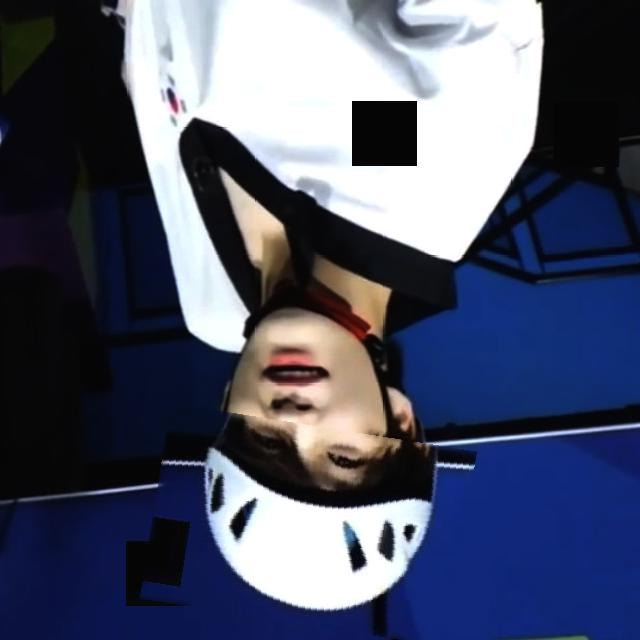helmet: (146, 414, 470, 636)
